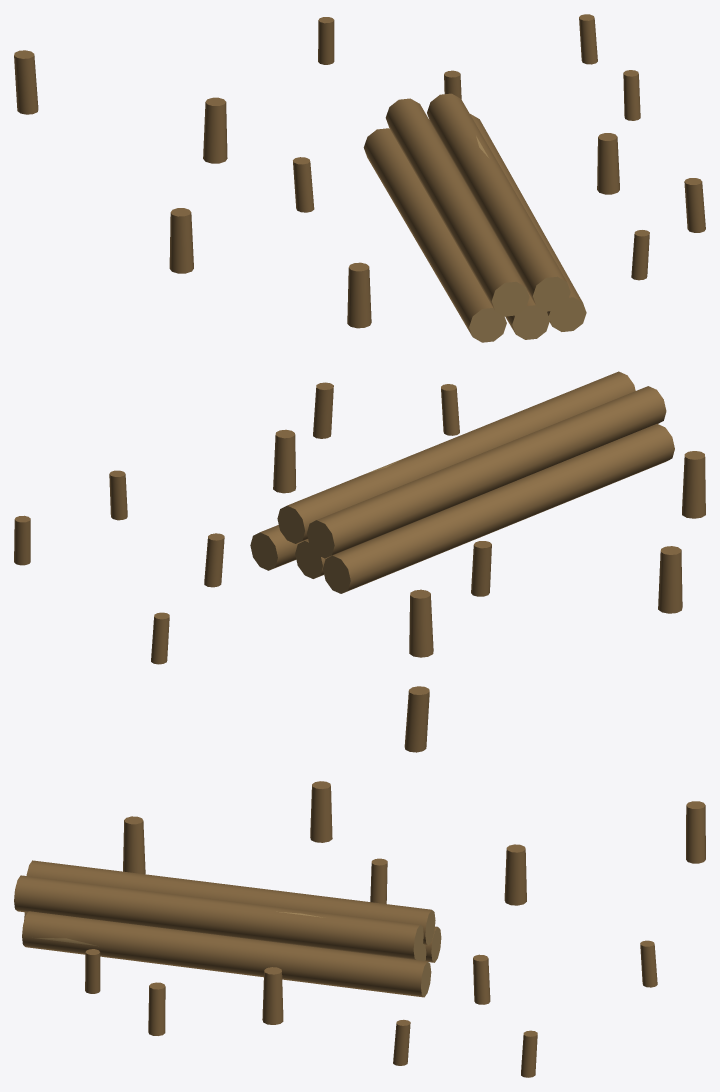
Rendered from quaternius-real-time-strategy-pack-resource-tree-group-cut.glb.
3 views of the same model, one above another, from view 1: azimuth 30°, elevation 25°; view 2: azimuth 150°, elevation 25°; view 3: azimuth 270°, elevation 25° (orthographic). The views are drawn at different scales.
Visible parts, largest first — view 1: Resource_Tree_Group_Cut; view 2: Resource_Tree_Group_Cut; view 3: Resource_Tree_Group_Cut.
Boxes of the visible parts, <box> form: Resource_Tree_Group_Cut: <box>14,14,705,342</box>; Resource_Tree_Group_Cut: <box>14,371,705,752</box>; Resource_Tree_Group_Cut: <box>14,781,705,1077</box>.
Size of the model in its own units: 1.53 by 0.1701 by 1.84.
